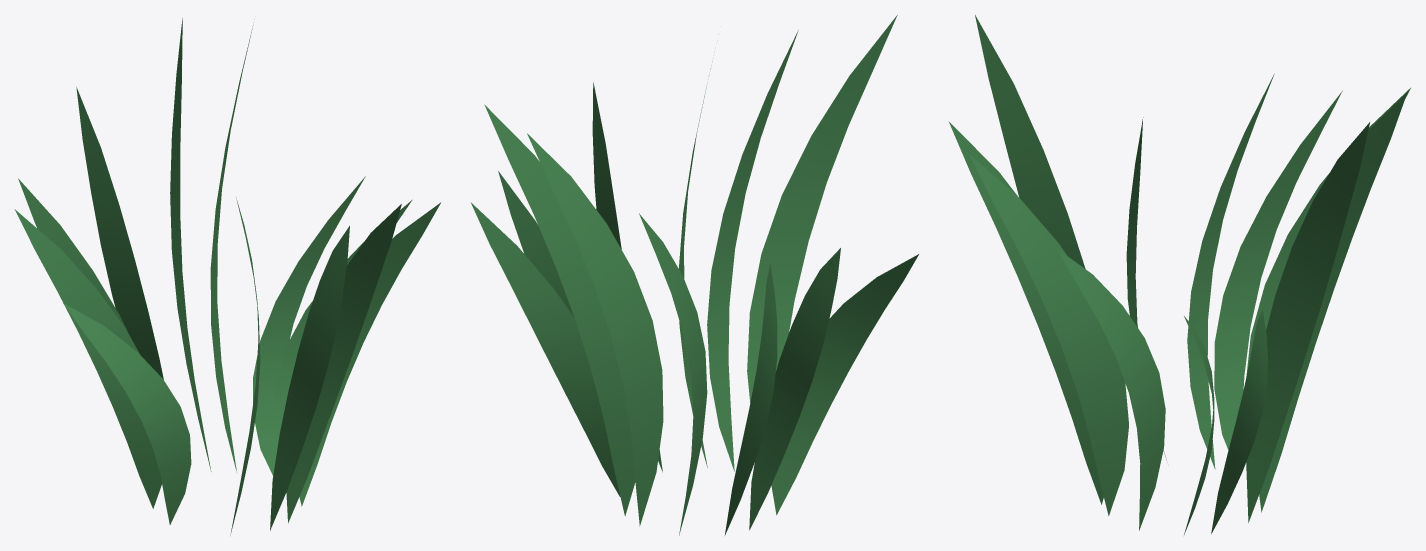
The model's file is seagrass.glb.
The picture shows the model from 3 angles, left to right: view 1: azimuth 30°, elevation 25°; view 2: azimuth 150°, elevation 25°; view 3: azimuth 270°, elevation 25°; orthographic projection. The views are drawn at different scales.
Visible parts, largest first — view 1: seagrass; view 2: seagrass; view 3: seagrass.
Part boxes in pixels (x1,y1,x2,y2): seagrass: [14, 18, 440, 535]; seagrass: [471, 15, 918, 535]; seagrass: [948, 15, 1410, 534].
Size of the model in its own units: 0.9133 by 0.95 by 0.9032.
